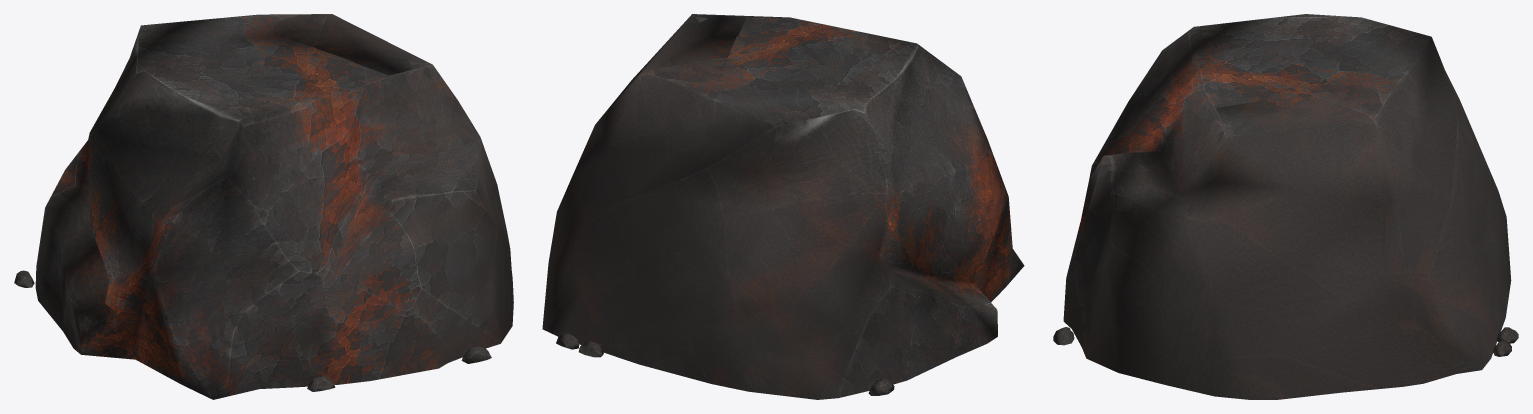
The model's file is Meshy_AI_Emberstone_Boulder_0831110629_texture.fbx.
3 views of the same model, side by side, from view 1: azimuth 30°, elevation 25°; view 2: azimuth 150°, elevation 25°; view 3: azimuth 270°, elevation 25° (orthographic).
Visible parts, largest first — view 1: mesh_node; view 2: mesh_node; view 3: mesh_node.
Boxes of the visible parts, bbox=[...] form: mesh_node: bbox=[14, 14, 513, 399]; mesh_node: bbox=[542, 14, 1024, 399]; mesh_node: bbox=[1053, 14, 1518, 399].
Bounding box in the file's own units: 100 × 55.27 × 99.41.
1 material, 1 textured.
